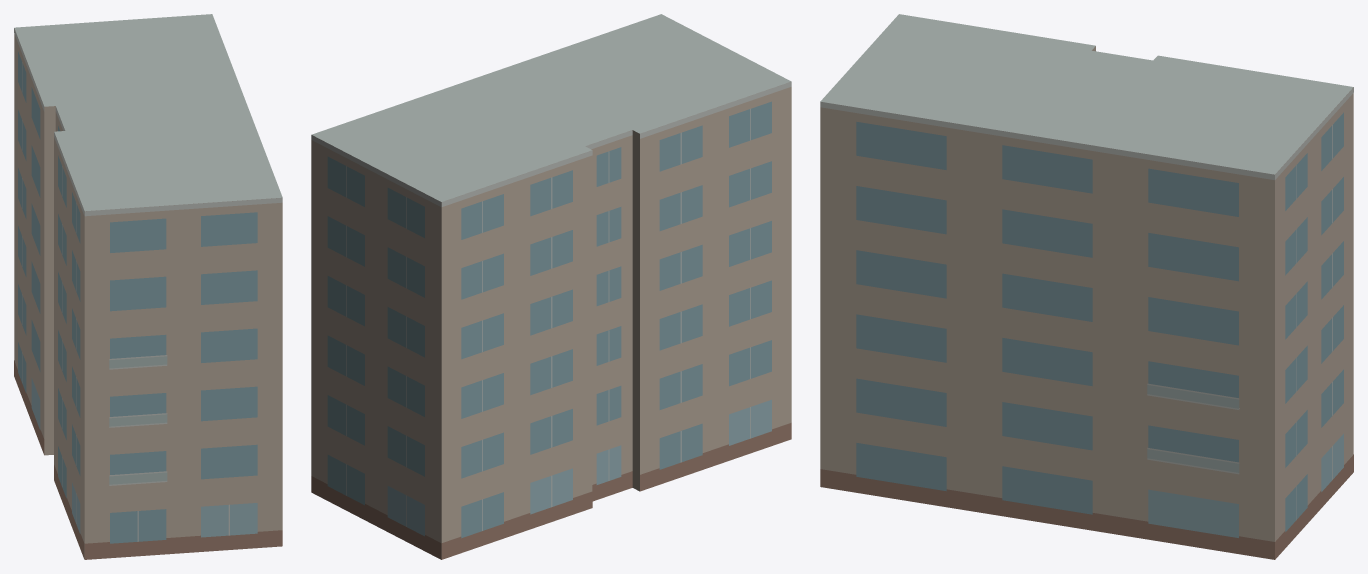
File: survey-upis-32553024.glb
The picture shows the model from 3 angles, left to right: view 1: azimuth 30°, elevation 25°; view 2: azimuth 150°, elevation 25°; view 3: azimuth 270°, elevation 25°; orthographic projection. The views are drawn at different scales.
Parts seen in each view (by area): view 1: survey-upis-32553024.tmp; view 2: survey-upis-32553024.tmp; view 3: survey-upis-32553024.tmp.
Part boxes in pixels (x1,y1,x2,y2): survey-upis-32553024.tmp: [14, 14, 282, 559]; survey-upis-32553024.tmp: [311, 14, 791, 559]; survey-upis-32553024.tmp: [820, 14, 1353, 559].
Size of the model in its own units: 15.03 by 16.8 by 21.1.
